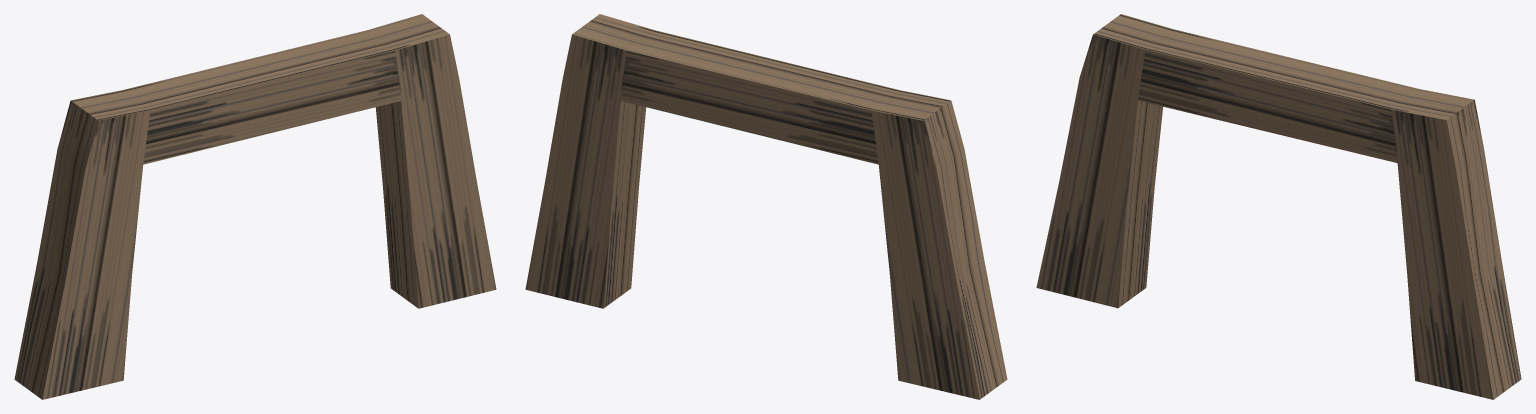
The model's file is SawHorse.fbx.
3 renders of one model, left to right at view 1: azimuth 30°, elevation 25°; view 2: azimuth 150°, elevation 25°; view 3: azimuth 330°, elevation 25°, orthographic.
Parts seen in each view (by area): view 1: pCube1; view 2: pCube1; view 3: pCube1.
Boxes of the visible parts, x1,y1,x2,y2 form: pCube1: [14, 14, 496, 399]; pCube1: [525, 14, 1007, 399]; pCube1: [1036, 14, 1521, 399].
Size of the model in its own units: 16.56 by 9.3 by 1.76.
Materials: 1 (1 with a texture image).
